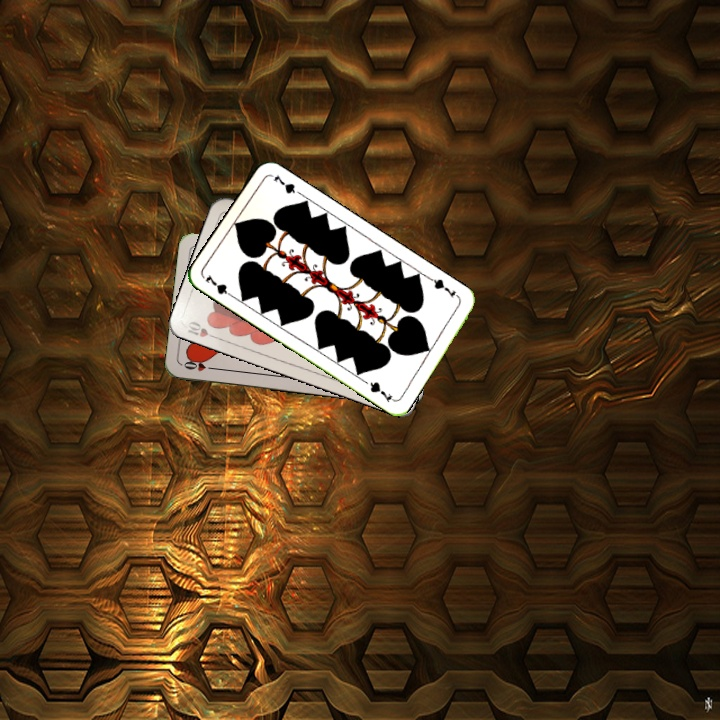G7: (201, 270, 237, 301), (426, 274, 462, 301)
H10: (183, 317, 222, 343)
HO: (180, 356, 220, 374)
